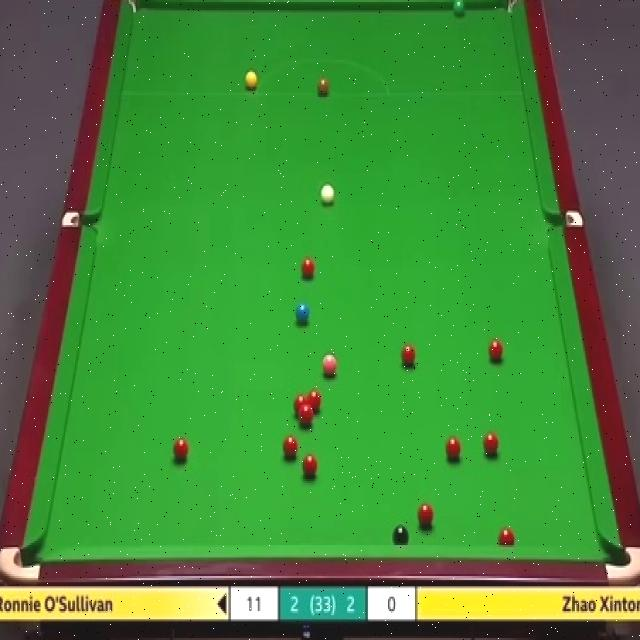black-ball: (391, 524, 408, 547)
blue-ball: (294, 302, 310, 327)
brown-ball: (315, 75, 330, 98)
green-ball: (452, 0, 467, 17)
pink-ball: (322, 350, 338, 377)
red-ball: (400, 341, 418, 371), (172, 436, 190, 464), (301, 453, 318, 482), (416, 503, 434, 530), (482, 431, 499, 457), (284, 433, 300, 460), (445, 436, 461, 462), (300, 258, 317, 282), (488, 337, 503, 363), (308, 390, 322, 415), (499, 526, 515, 546), (299, 407, 313, 427), (294, 394, 307, 415)
white-ball: (318, 182, 337, 210)
yellow-ball: (242, 69, 258, 90)
